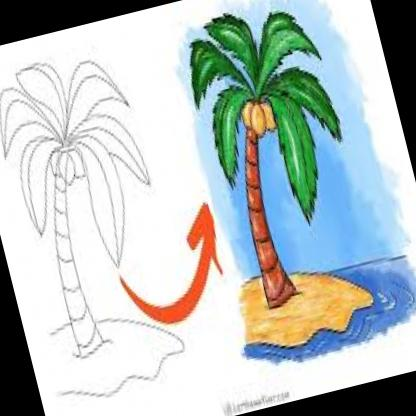crown_dizzy: (175, 0, 363, 244)
root_none: (256, 278, 315, 328)
trunk_bark: (239, 189, 285, 267)
